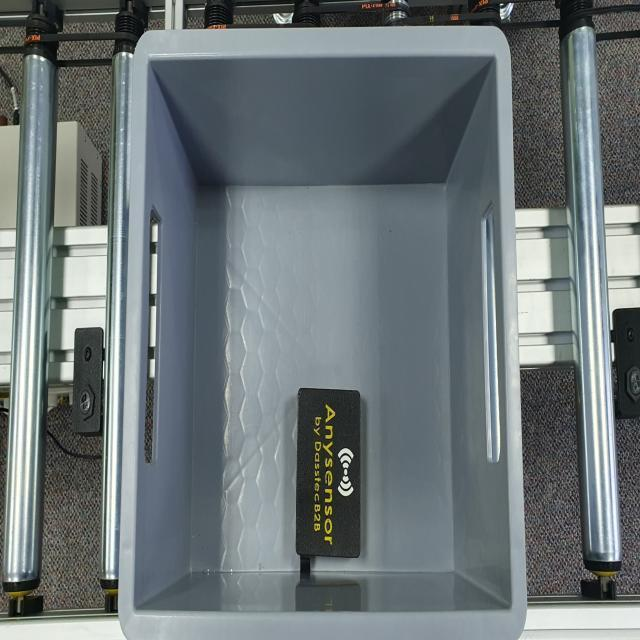box: (295, 388, 361, 561)
